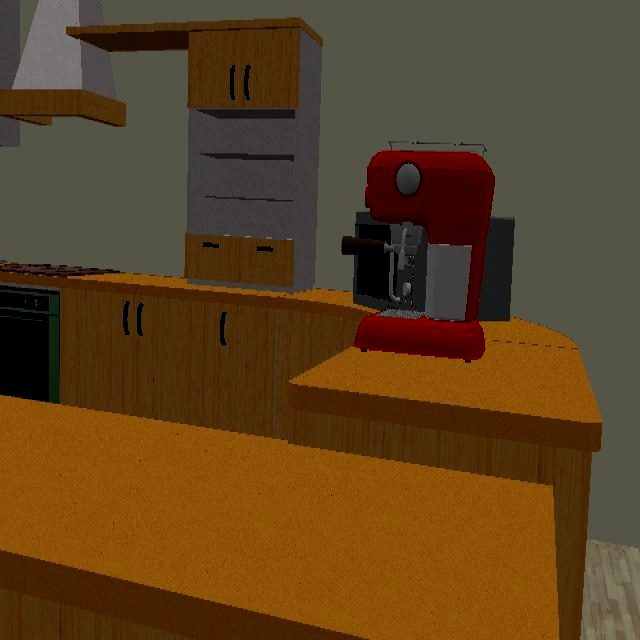cabinet: (70, 17, 322, 120), (184, 232, 295, 288)
countertop: (0, 396, 561, 640), (288, 319, 602, 452), (0, 265, 357, 308)
microwave: (354, 211, 427, 313), (477, 217, 515, 323)
oven: (0, 284, 62, 404)
shelf: (186, 31, 322, 292)
stove: (0, 261, 119, 283)
